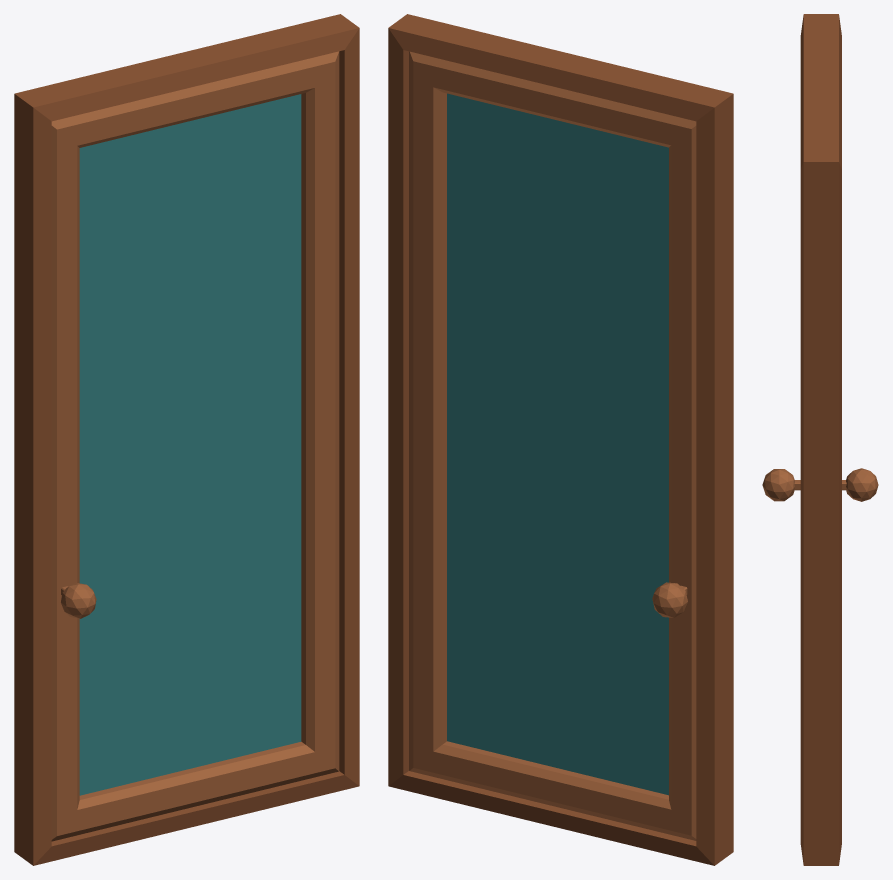
3 views of the same model, side by side, from view 1: azimuth 30°, elevation 25°; view 2: azimuth 150°, elevation 25°; view 3: azimuth 270°, elevation 25° (orthographic). The views are drawn at different scales.
Visible parts, largest first — view 1: Door A, Door A.001; view 2: Door A, Door A.001; view 3: Door A.001, Door A.
Boxes of the visible parts, x1,y1,x2,y2 form: Door A: [51, 51, 339, 841]; Door A.001: [14, 14, 359, 865]; Door A: [409, 51, 696, 840]; Door A.001: [388, 14, 733, 865]; Door A.001: [800, 14, 841, 865]; Door A: [762, 468, 878, 501].
Bounding box in the file's own units: 4.62 × 10.26 × 1.53.
